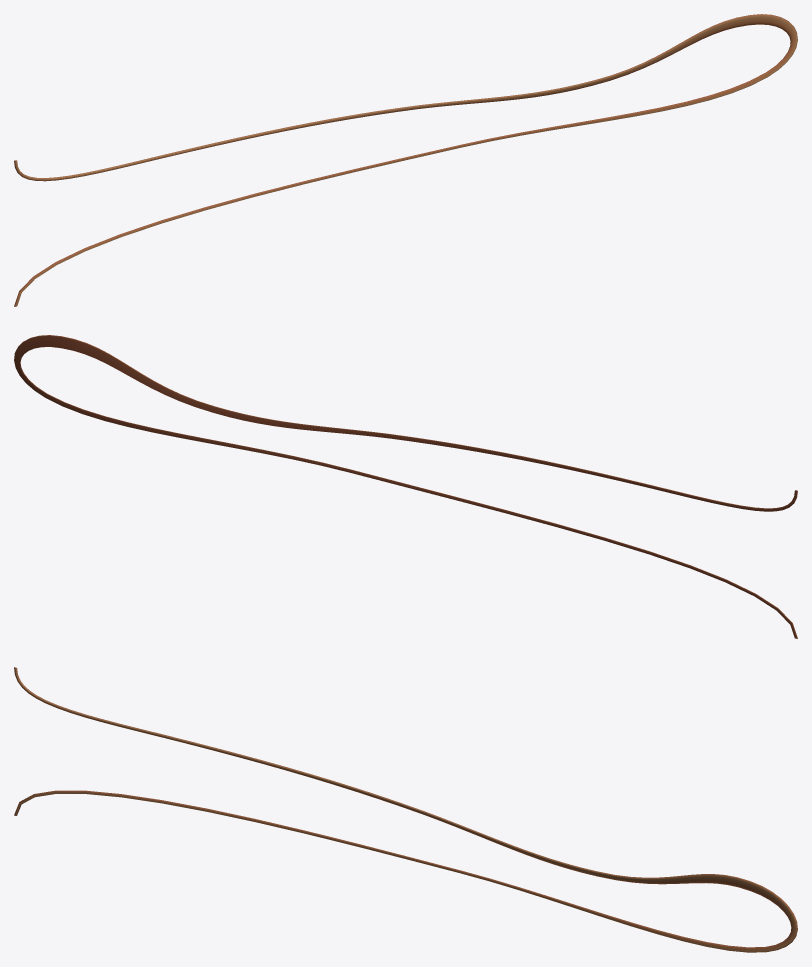
Rendered from splice-return.glb.
3 views of the same model, one above another, from view 1: azimuth 30°, elevation 25°; view 2: azimuth 150°, elevation 25°; view 3: azimuth 330°, elevation 25° (orthographic).
Visible parts, largest first — view 1: SpliceTape; view 2: SpliceTape; view 3: SpliceTape.
Boxes of the visible parts, x1=… form: SpliceTape: x1=14, y1=14, x2=797, y2=306; SpliceTape: x1=14, y1=335, x2=797, y2=638; SpliceTape: x1=14, y1=667, x2=797, y2=952.
Size of the model in its own units: 8.06 by 1.44 by 0.1205.
